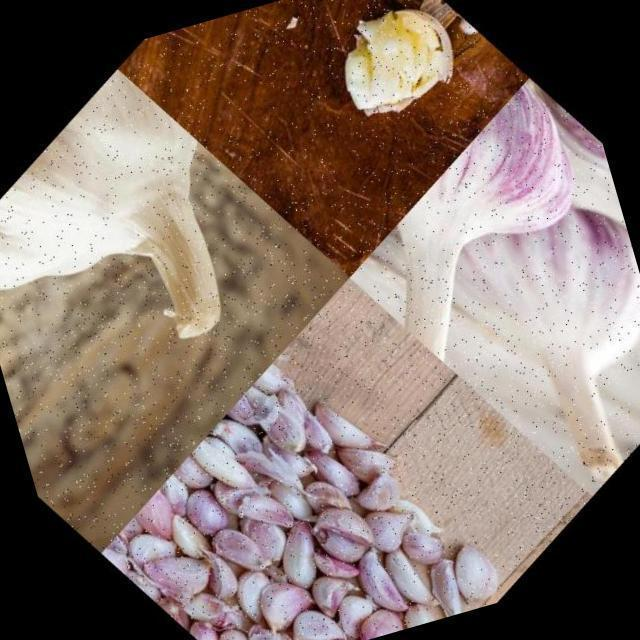garlic: (62, 308, 526, 640), (0, 31, 344, 467), (361, 126, 640, 528), (309, 64, 640, 388)
